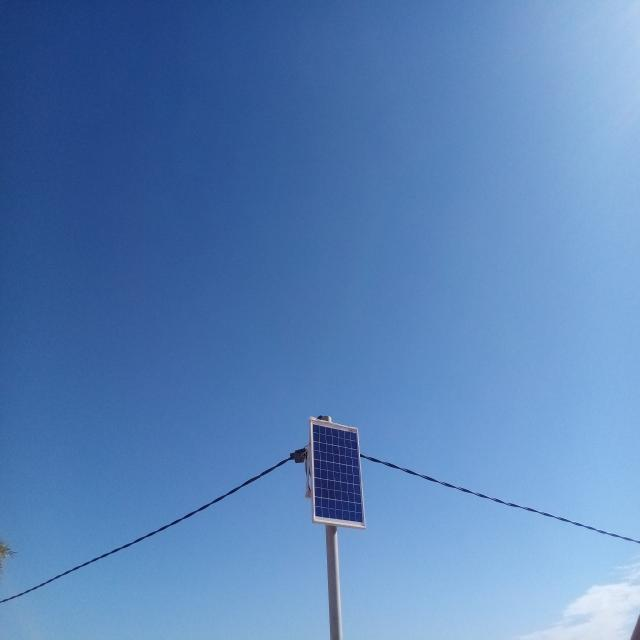no faulty: (311, 418, 365, 527)
